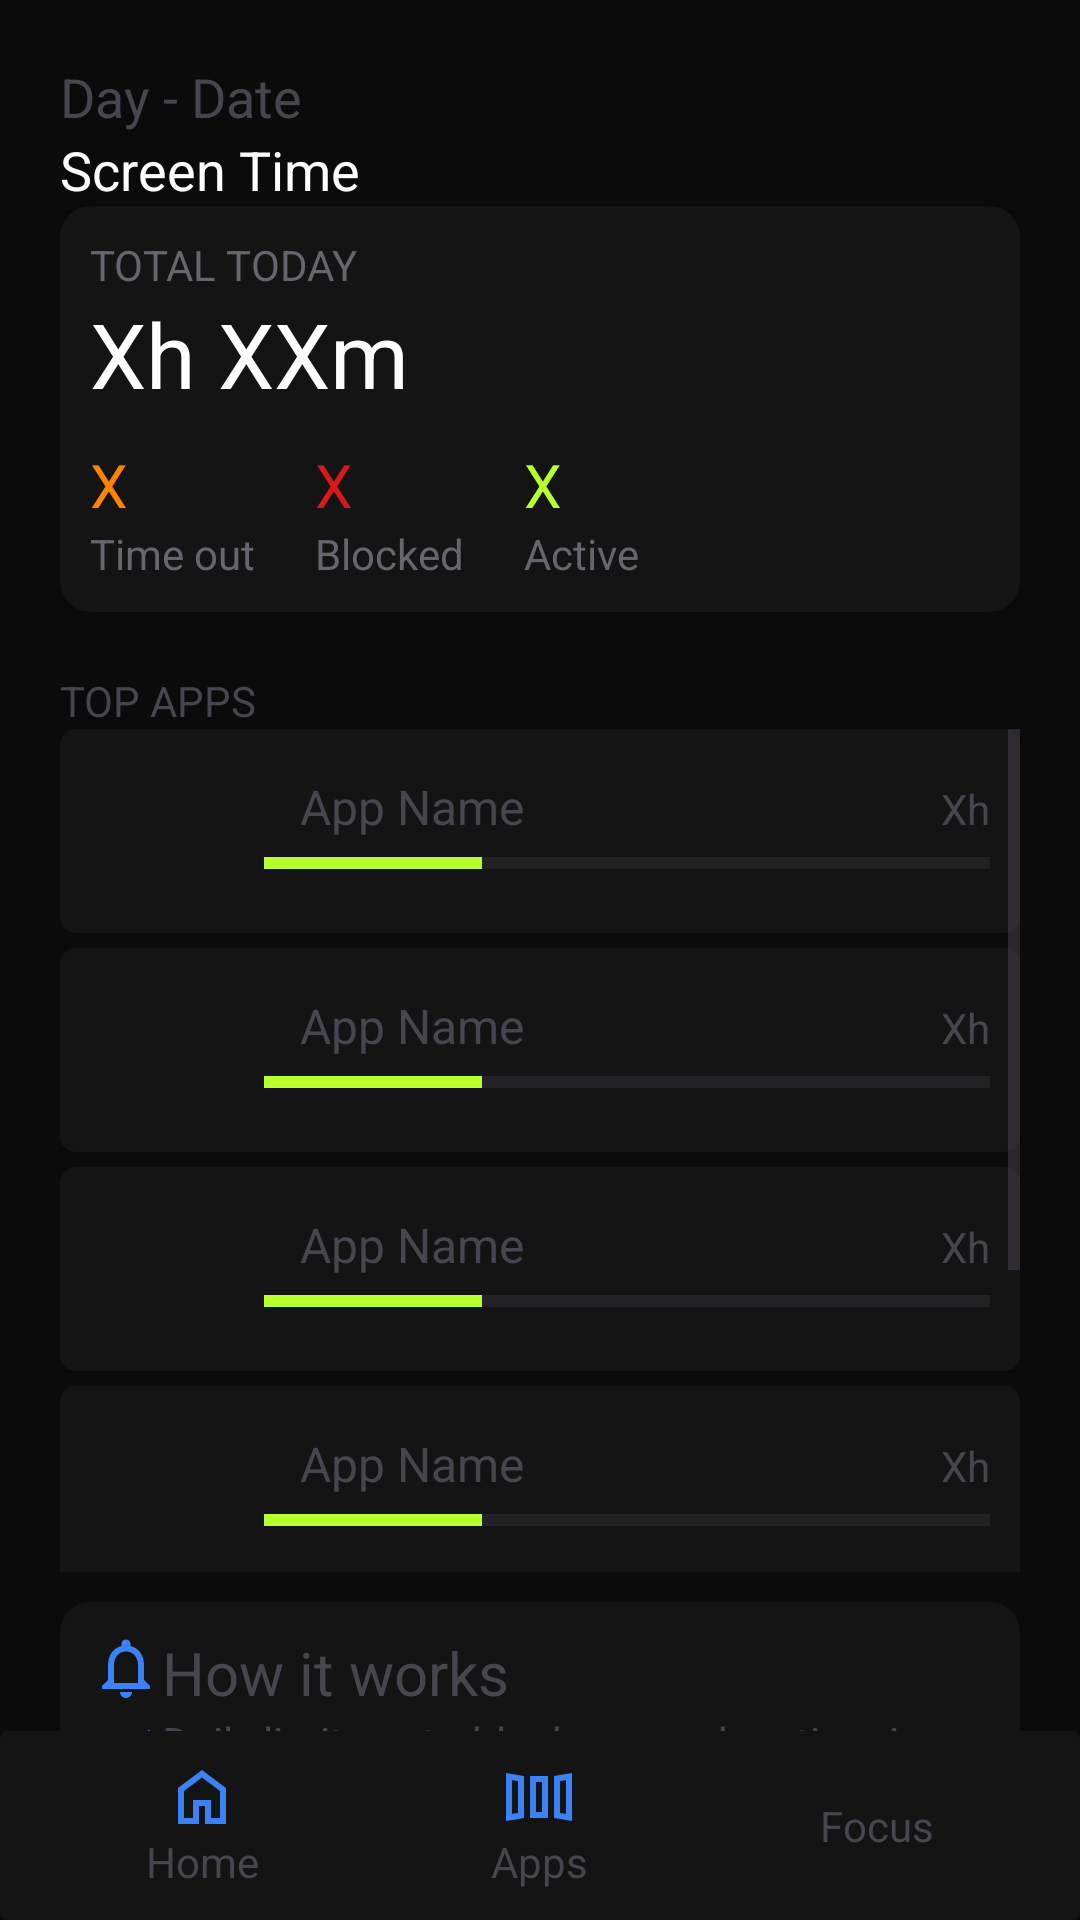

Where icons sit on this 1080px x 1920px app screen, as {"x1": x1, "y1": y1, "x2": x2, "y2": y2}:
notification: {"x1": 102, "y1": 1639, "x2": 150, "y2": 1698}
